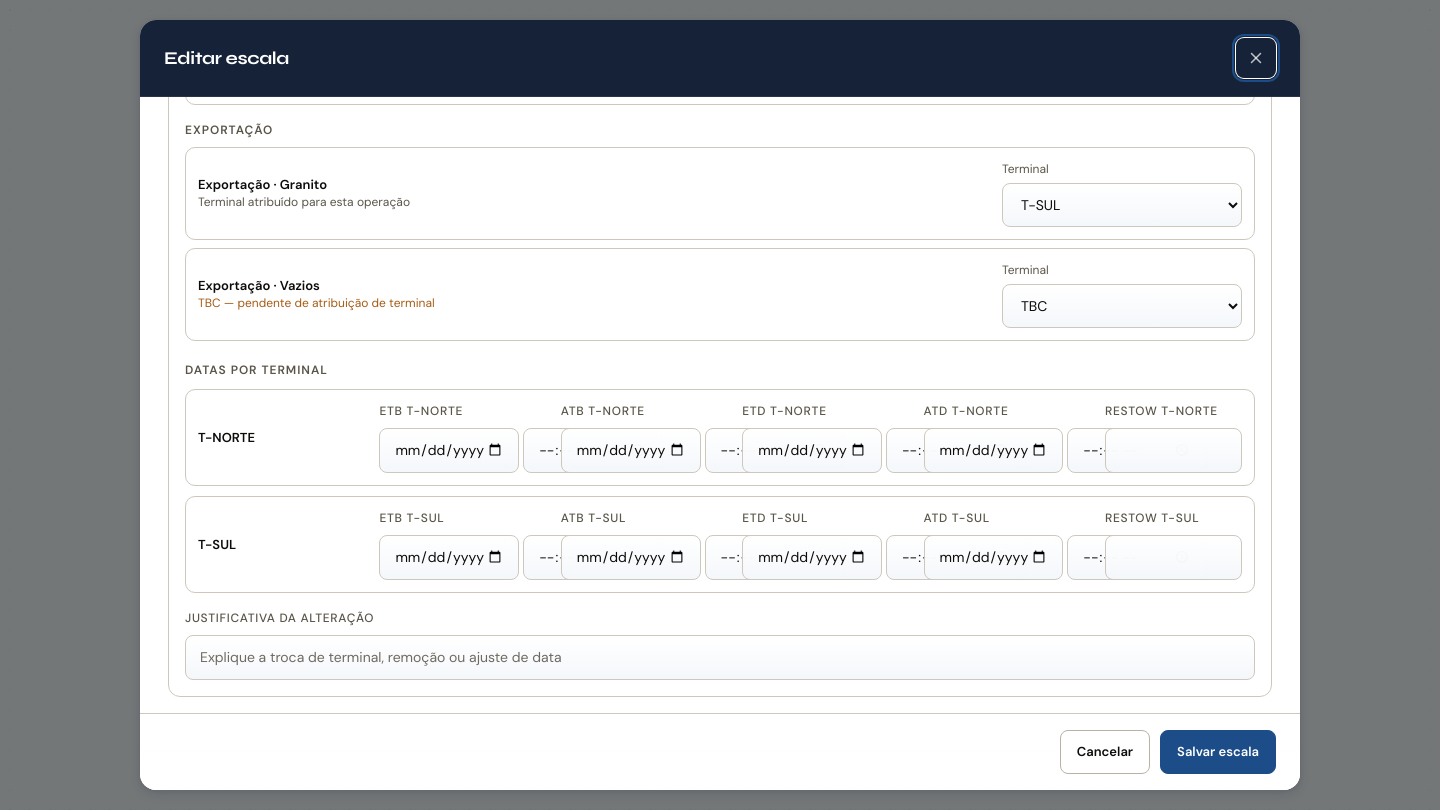
Scenario: EscalaModal › rejeita ATB de terminal com data preenchida e hora vazia
(page scrolled)
Type "2026-03-04" into the date field labelled "ATB T-NORTE". click: {"x": 631, "y": 450}
box: [561,428,701,473]
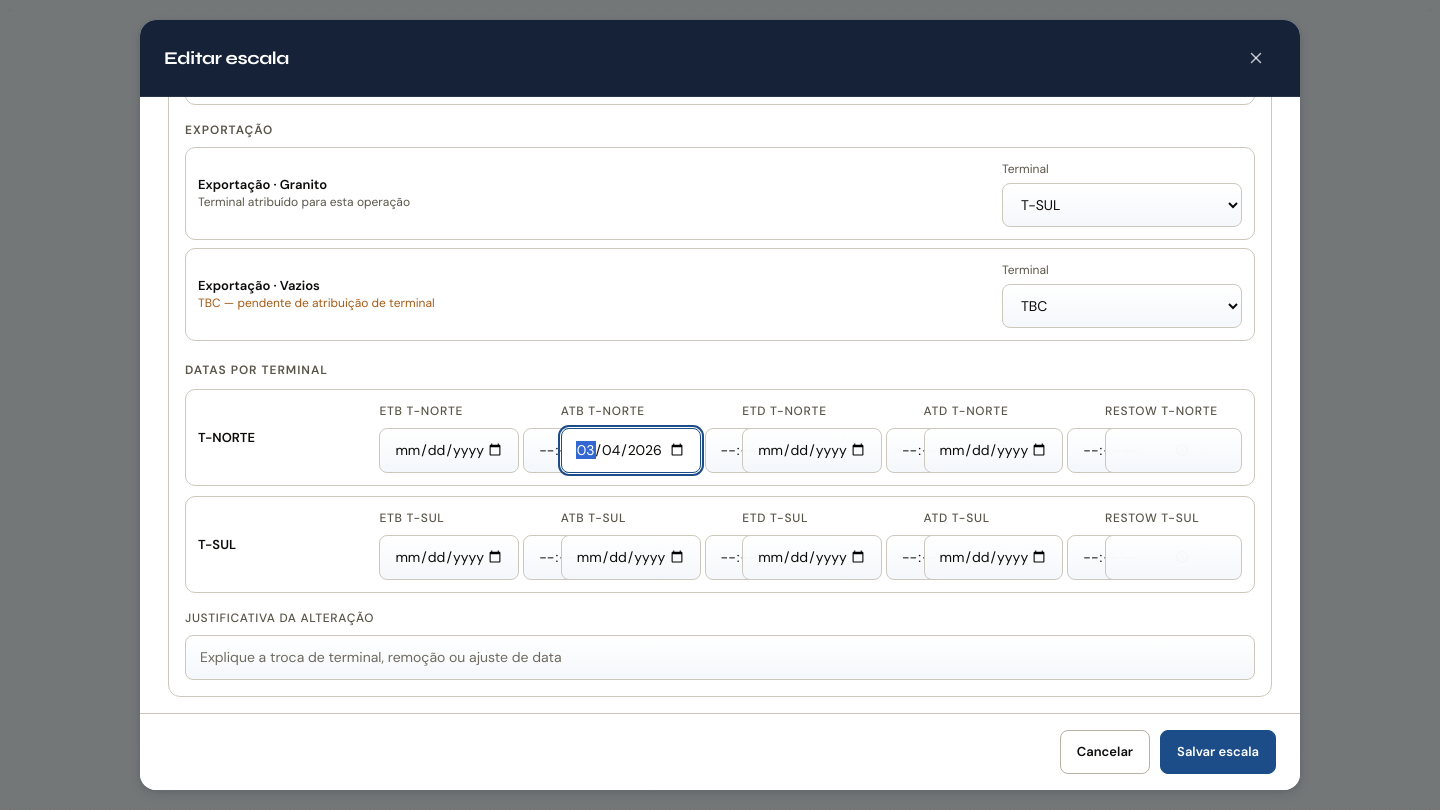
Click the button "Salvar escala". click: {"x": 1218, "y": 752}
box: [1160,730,1276,774]
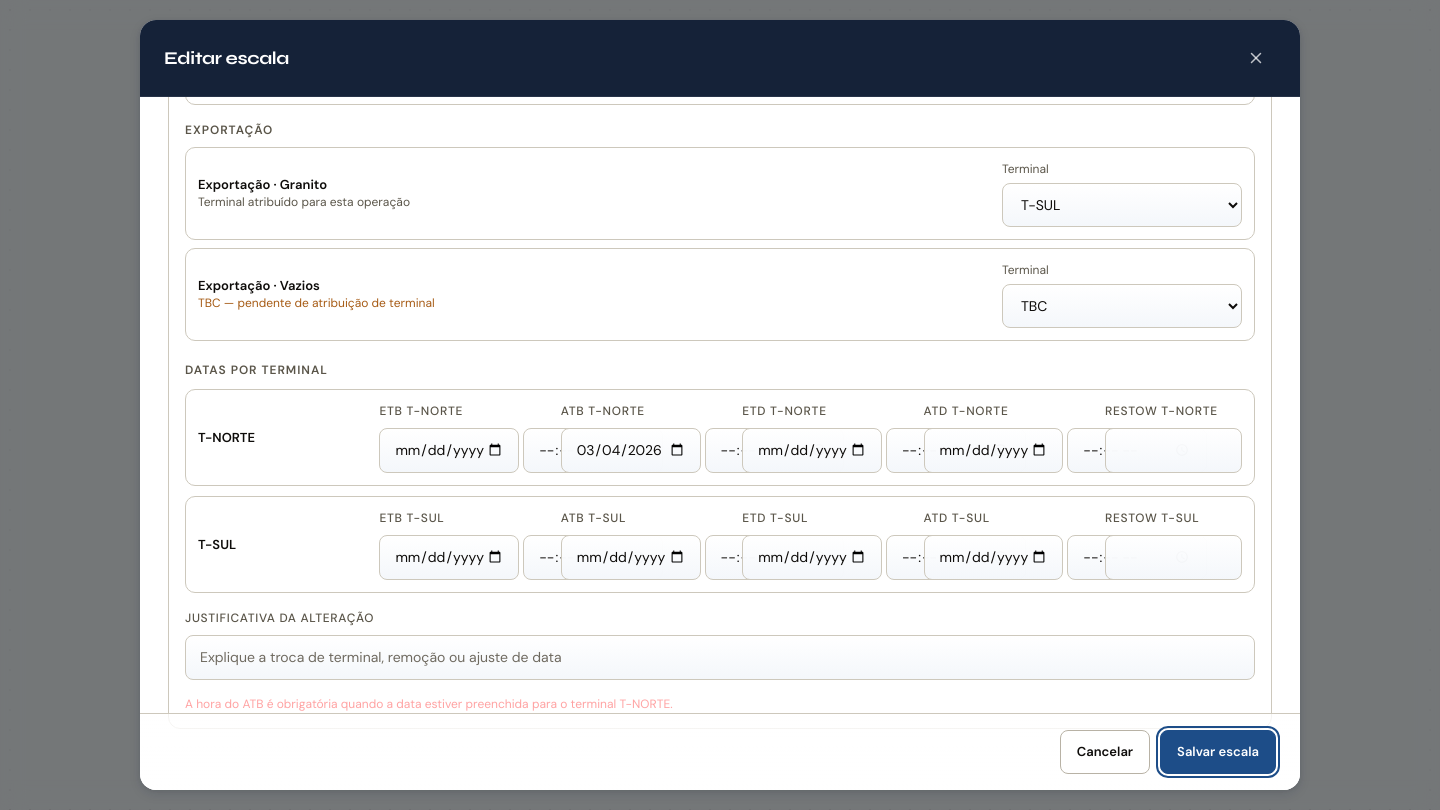
expect the message shows "hora do ATB é obrigatória": met, box [185,696,673,712]
